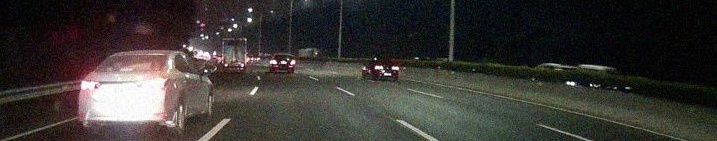L_light: (79, 79, 101, 92), (375, 65, 383, 70), (271, 61, 277, 65), (223, 63, 228, 66)
R_light: (142, 77, 171, 89), (391, 66, 399, 70), (289, 61, 295, 65), (239, 64, 245, 67)
T_light: (129, 54, 145, 59), (231, 40, 237, 42), (383, 59, 389, 61), (281, 55, 286, 56)
night-no: (77, 50, 173, 135), (221, 37, 247, 74), (373, 59, 399, 82), (270, 53, 296, 74)
